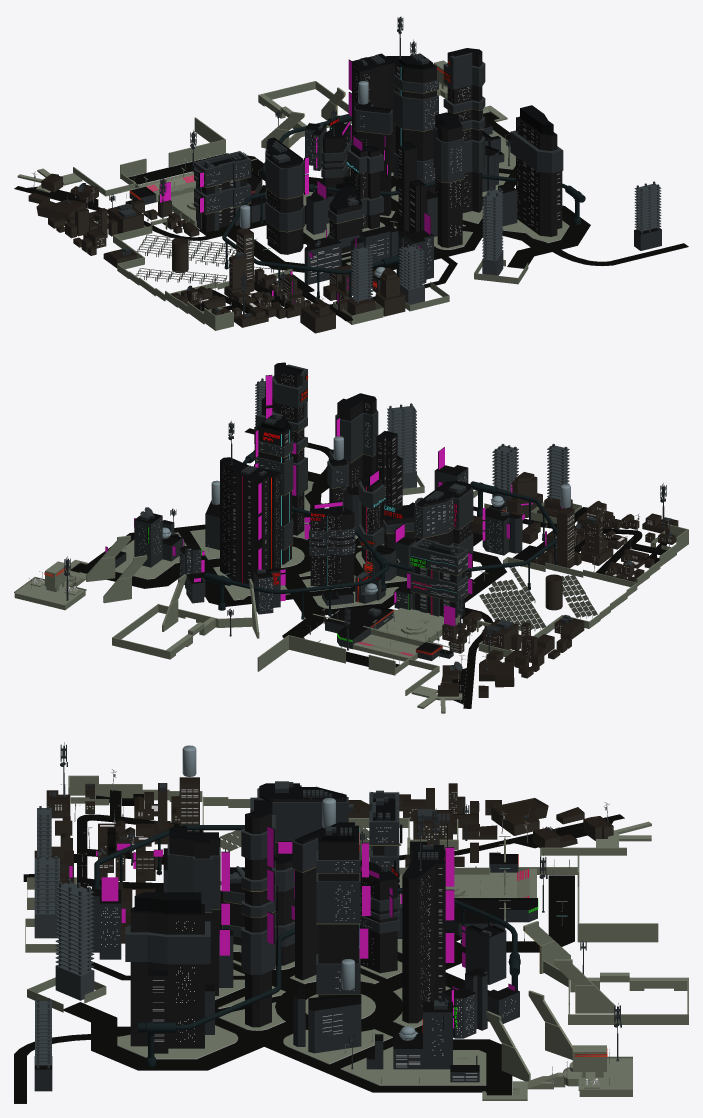
Rendered from CuberpunkCityWithKaws.obj.
The picture shows the model from 3 angles, top to bottom: view 1: azimuth 30°, elevation 25°; view 2: azimuth 150°, elevation 25°; view 3: azimuth 270°, elevation 25°; orthographic projection. The views are drawn at different scales.
Visible parts, largest first — view 1: Cuberpunk2077.001; view 2: Cuberpunk2077.001; view 3: Cuberpunk2077.001.
Boxes of the visible parts, x1,y1,x2,y2 form: Cuberpunk2077.001: [14, 16, 688, 333]; Cuberpunk2077.001: [14, 362, 688, 713]; Cuberpunk2077.001: [14, 742, 688, 1103].
Bounding box in the file's own units: 20.43 × 6.92 × 19.65.
